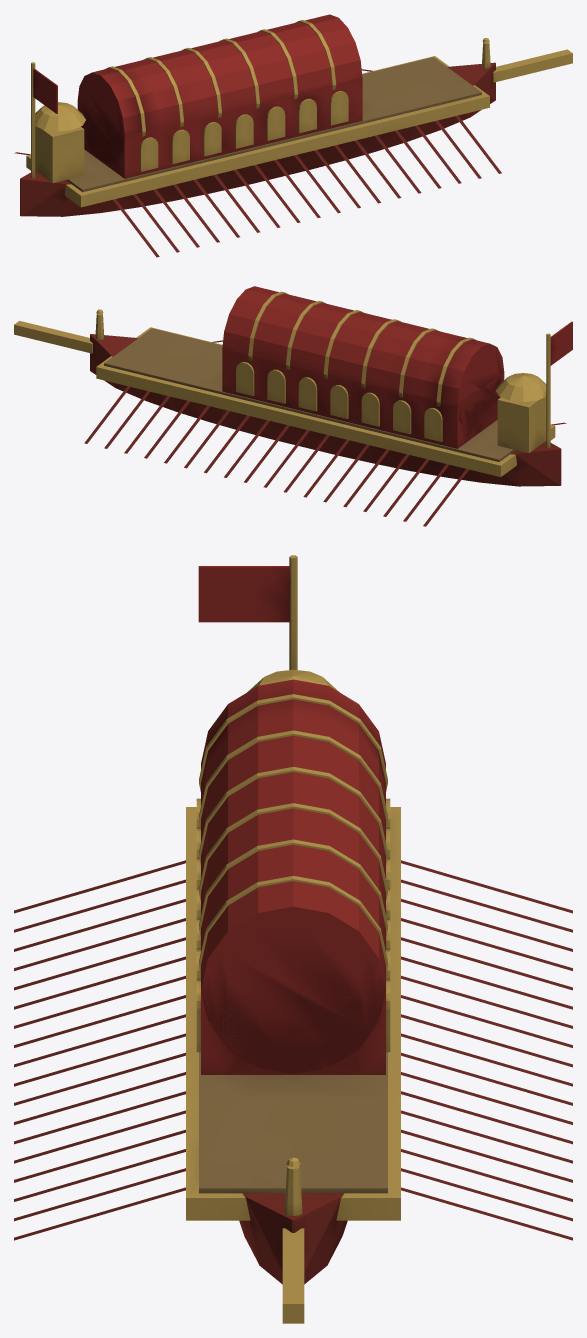
File: bucintoro-1400.glb
3 views of the same model, one above another, from view 1: azimuth 30°, elevation 25°; view 2: azimuth 150°, elevation 25°; view 3: azimuth 270°, elevation 25° (orthographic). The views are drawn at different scales.
Parts seen in each view (by area): view 1: p1_canopy, p0_hull; view 2: p1_canopy, p0_hull; view 3: p1_canopy, p0_hull.
Boxes of the visible parts, x1,y1,x2,y2 form: p1_canopy: (31,14,362,183); p0_hull: (14,38,572,257); p1_canopy: (222,286,572,453); p0_hull: (14,309,566,526); p1_canopy: (196,555,390,1074); p0_hull: (14,807,572,1323).
Size of the model in its own units: 34.7 by 9.4 by 15.6.
